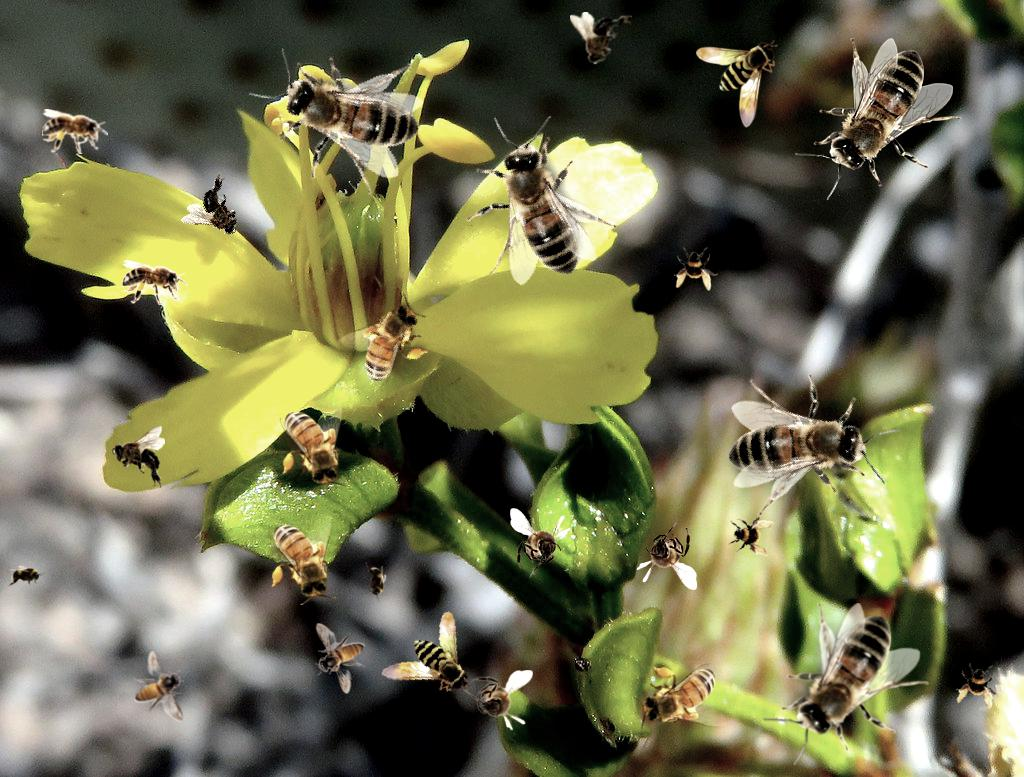Bee: (688, 326, 921, 560), (421, 90, 648, 320), (238, 10, 447, 222), (762, 603, 929, 765), (795, 38, 962, 200), (330, 288, 446, 397), (373, 609, 473, 705), (696, 40, 778, 128), (178, 170, 259, 252), (635, 663, 728, 731), (279, 399, 347, 492), (268, 512, 336, 605), (636, 520, 697, 590), (463, 670, 533, 731), (510, 508, 571, 578), (315, 623, 365, 694), (134, 651, 184, 722), (570, 12, 632, 65), (112, 426, 165, 488), (42, 109, 108, 154), (122, 260, 188, 305), (726, 509, 776, 559), (954, 661, 1004, 711), (674, 247, 718, 291), (6, 565, 46, 587), (365, 562, 387, 602)
